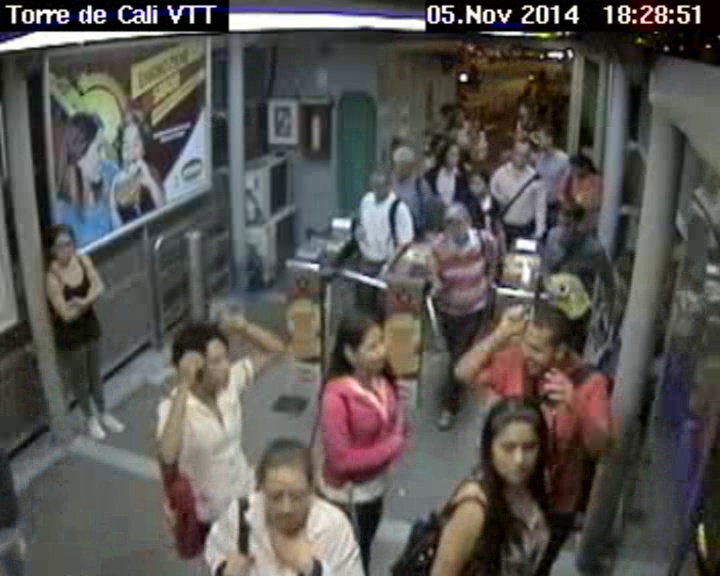person: (465, 391, 560, 502), (496, 307, 593, 390), (253, 436, 320, 533), (161, 318, 233, 397), (336, 319, 391, 387), (438, 198, 476, 250), (561, 147, 607, 178), (389, 136, 415, 186), (45, 221, 78, 260), (557, 200, 584, 245), (443, 101, 477, 130), (506, 135, 528, 173), (364, 171, 390, 203), (525, 122, 554, 148), (441, 143, 460, 171), (510, 101, 536, 116)
